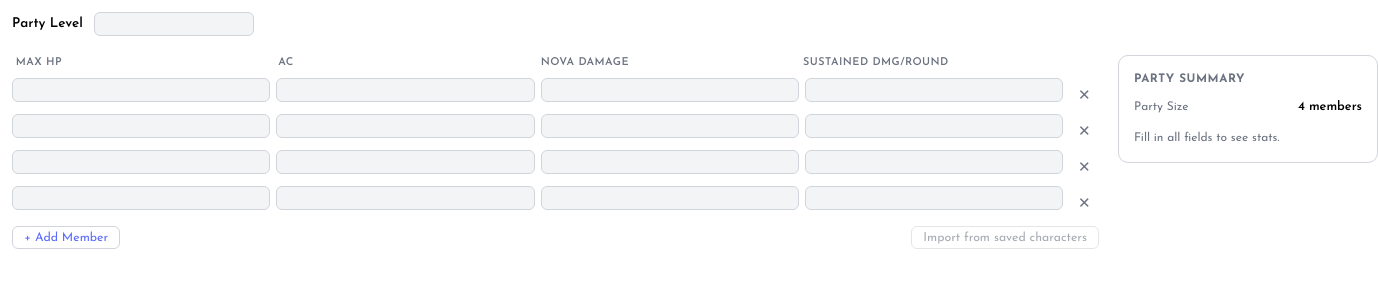
Test case: Add Member button increases member count from 4 to 5
Expected: the number of buttons named "remove member" is 4, top-left (1069, 83), bottom-right (1099, 107); top-left (1069, 119), bottom-right (1099, 143); top-left (1069, 155), bottom-right (1099, 179); top-left (1069, 191), bottom-right (1099, 215)
Click the button "+ Add Member". click: [66, 238]
box: top-left (12, 226), bottom-right (120, 249)
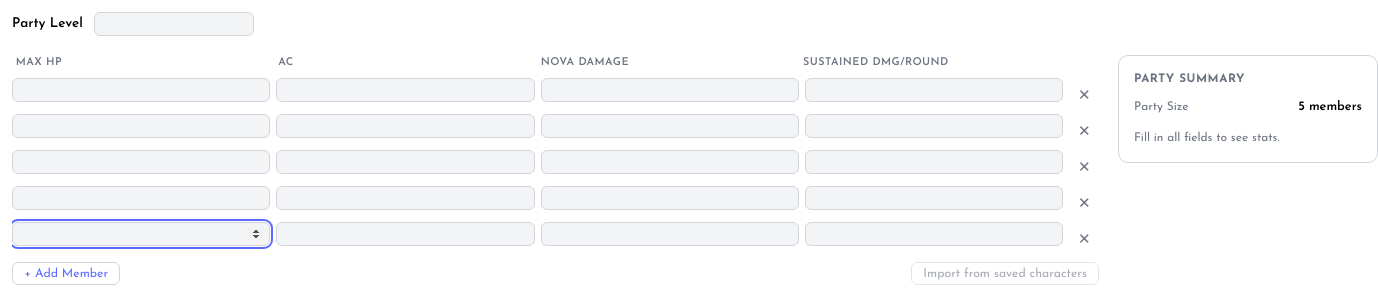
Now the number of buttons named "remove member" is 5, box top-left (1069, 83), bottom-right (1099, 107); top-left (1069, 119), bottom-right (1099, 143); top-left (1069, 155), bottom-right (1099, 179); top-left (1069, 191), bottom-right (1099, 215); top-left (1069, 227), bottom-right (1099, 251)
